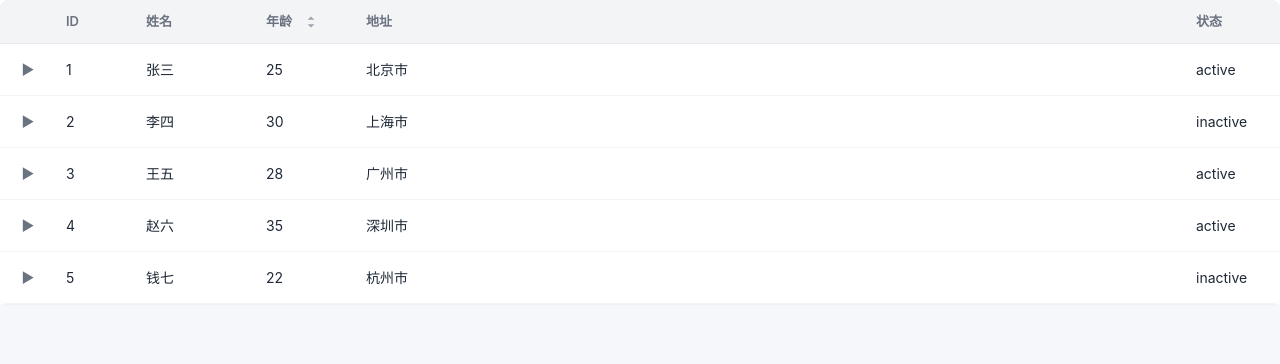
Test case: Table 组件 › 自定义插槽 › 支持展开行插槽
The width and height of the screenshot is (1280, 364).
Click the icon with class "ale-table__expand-icon" in the row of "张三". click: coordinates (28, 70)
box: [22,61,34,78]
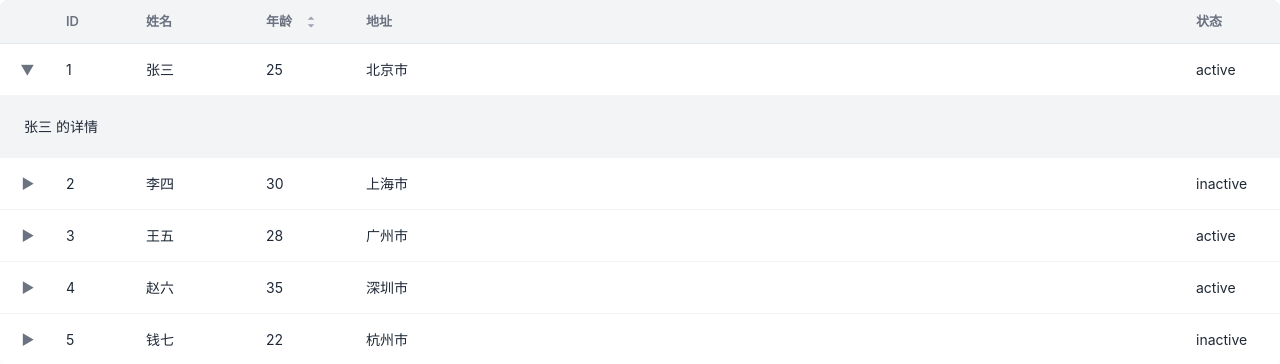
Now the text "张三 的详情" is shown, box [24,118,98,135]
